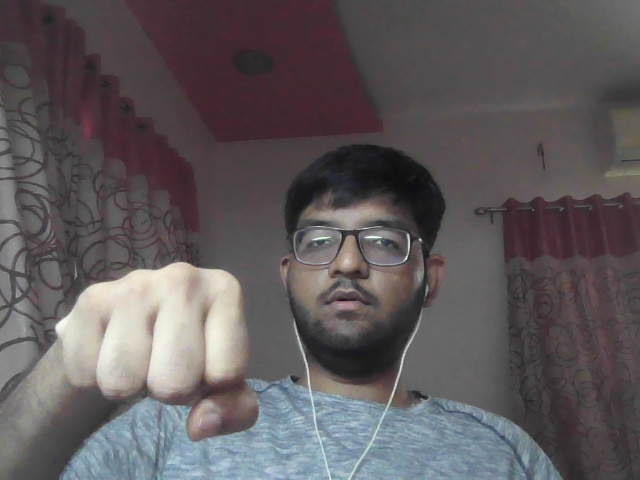હા: (33, 244, 285, 446)
